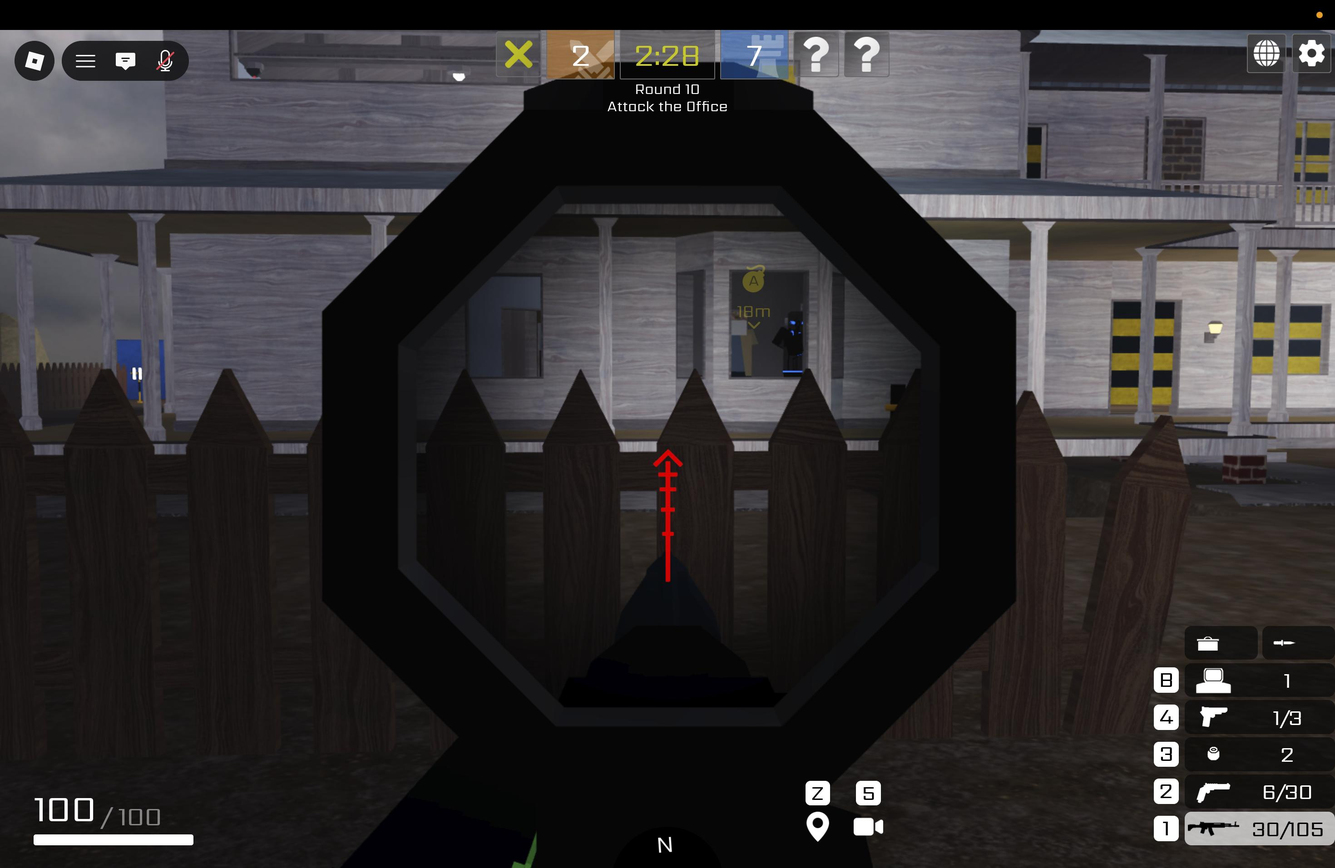enemy: (771, 310, 804, 376), (729, 311, 758, 378)
